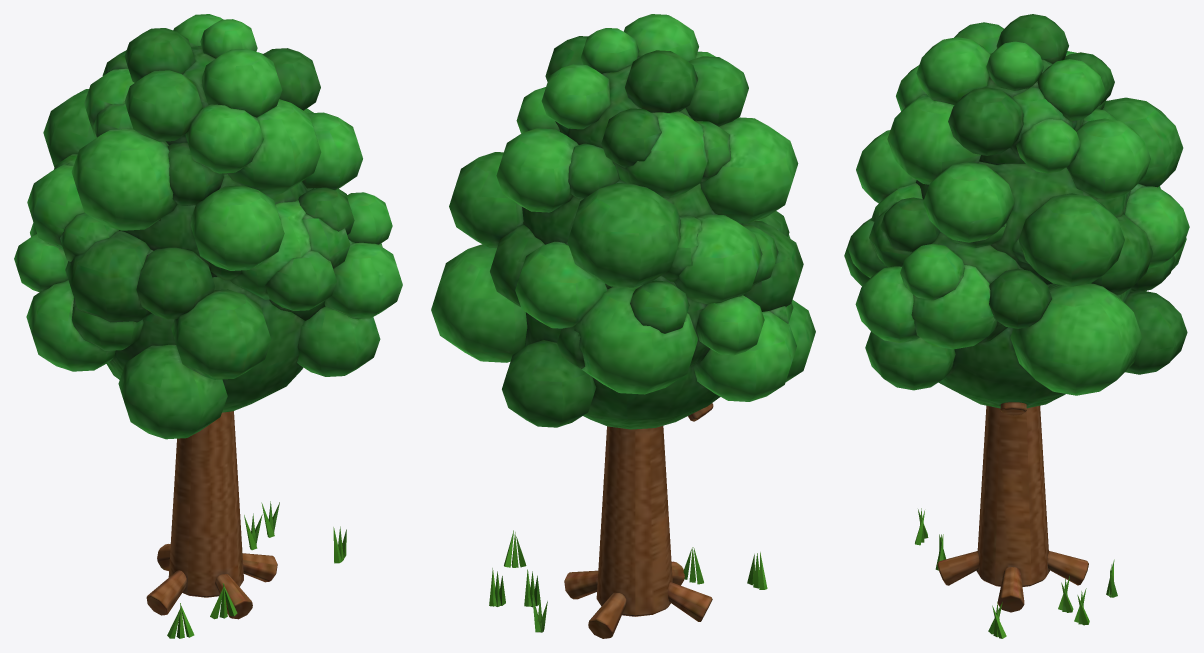
Rendered from papaya_tree.glb.
3 renders of one model, left to right at view 1: azimuth 30°, elevation 25°; view 2: azimuth 150°, elevation 25°; view 3: azimuth 270°, elevation 25°, orthographic. The views are drawn at different scales.
Parts seen in each view (by area): view 1: crown, papaya_tree; view 2: crown, papaya_tree; view 3: crown, papaya_tree.
Boxes of the visible parts, x1=… form: crown: x1=14, y1=14, x2=402, y2=439; papaya_tree: x1=146, y1=411, x2=346, y2=638; crown: x1=431, y1=14, x2=815, y2=429; papaya_tree: x1=489, y1=403, x2=767, y2=638; crown: x1=844, y1=14, x2=1189, y2=408; papaya_tree: x1=915, y1=402, x2=1117, y2=638.
Size of the model in its own units: 0.8885 by 1.48 by 0.8402.
1 material, 1 textured.
